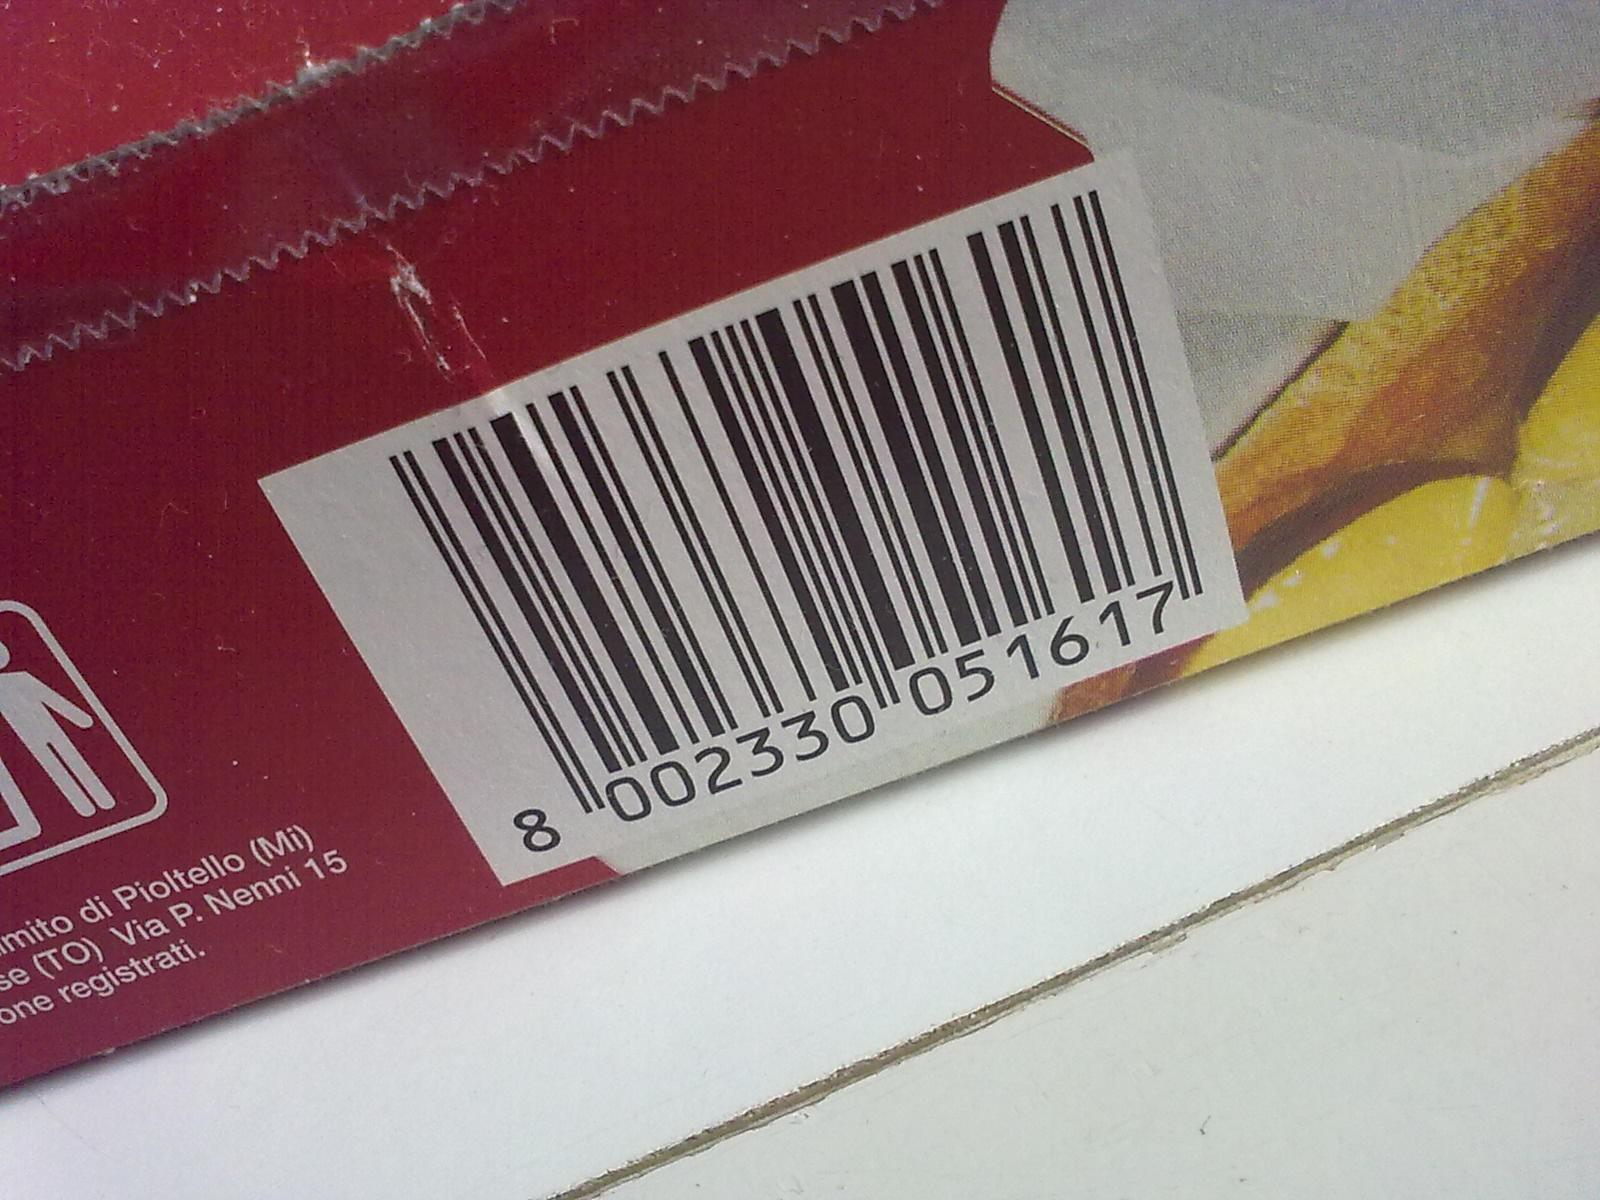Barcode: (383, 163, 1211, 868)
